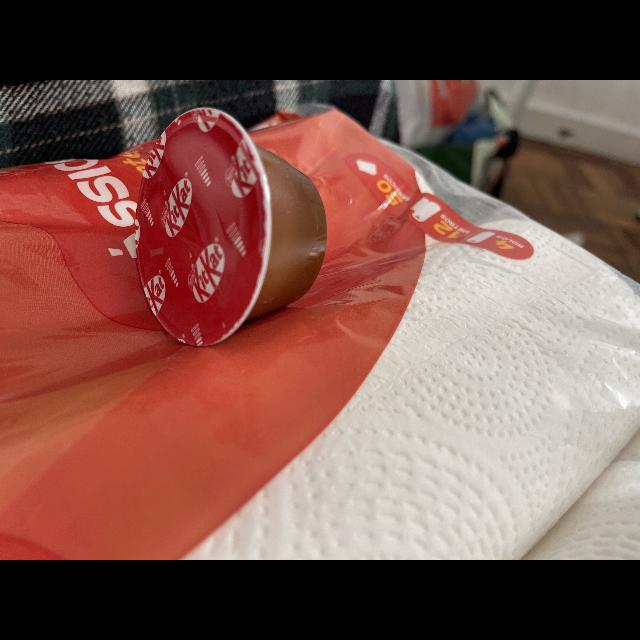intact_capsule: (129, 104, 343, 356)
